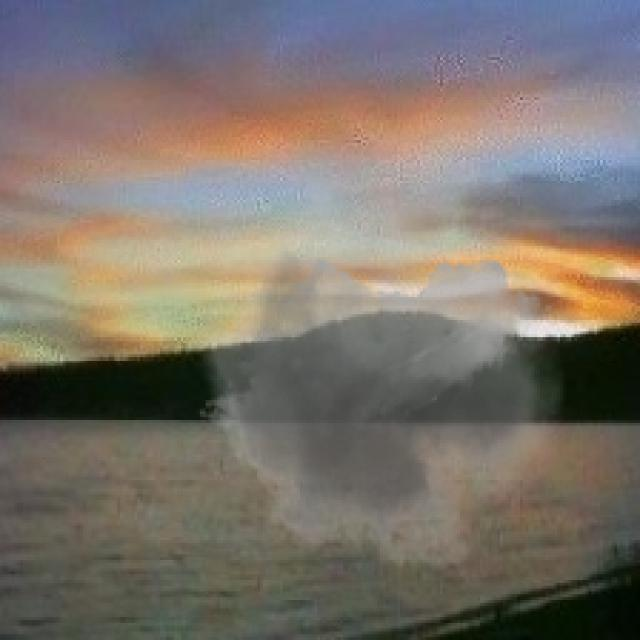smoke: (185, 174, 566, 589)
